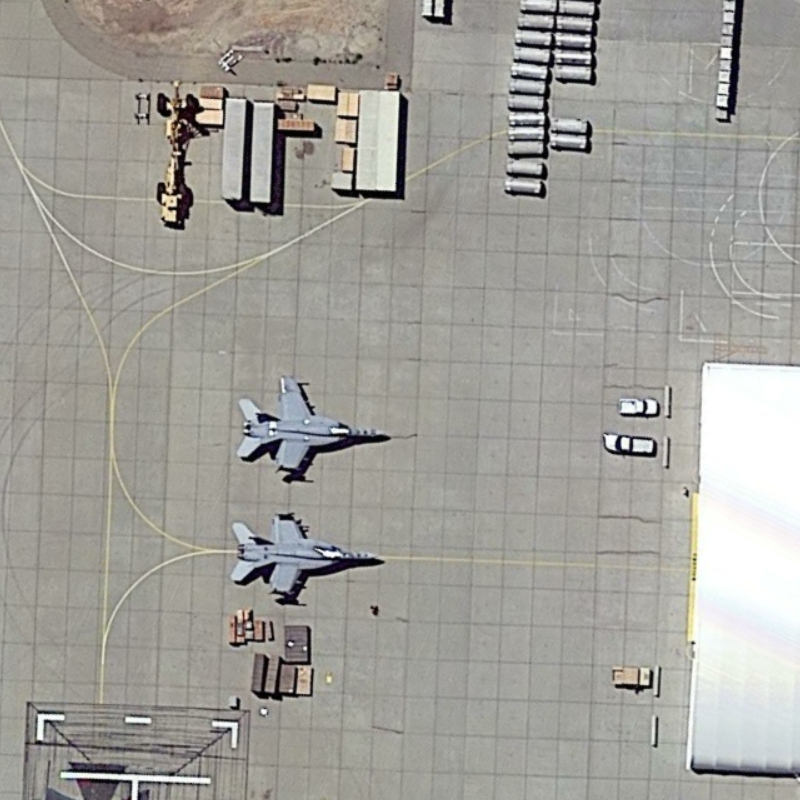A16: (235, 368, 396, 487), (221, 507, 389, 606)
